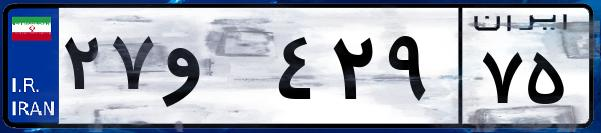2: (330, 28, 385, 110), (57, 26, 110, 100)
4: (270, 28, 330, 110)
5: (525, 38, 570, 115)
7: (475, 38, 525, 113), (110, 28, 158, 98)
9: (385, 28, 445, 110)
و: (158, 20, 270, 120)
